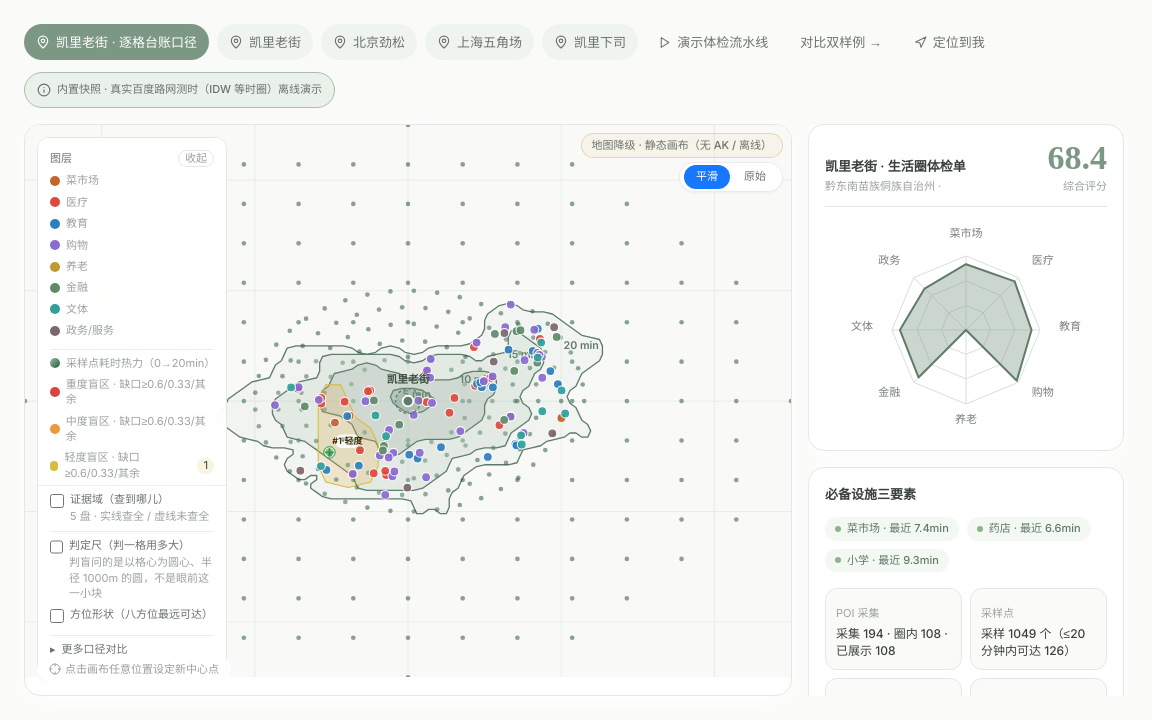
P0/P1 落地状态钉（S1、S3 均已转绿） › TC-05：折叠报出自身状态，且只收色块、不销毁判读勾选
The width and height of the screenshot is (1152, 720).
expect the text "凯里老街 · 生活圈体检单" is shown: met, box [825,156,966,177]
expect the text "采样点耗时热力（0→20min）" is shown: met, box [50,348,214,371]
Click the button "收起": (196, 159) [178,150,214,167]
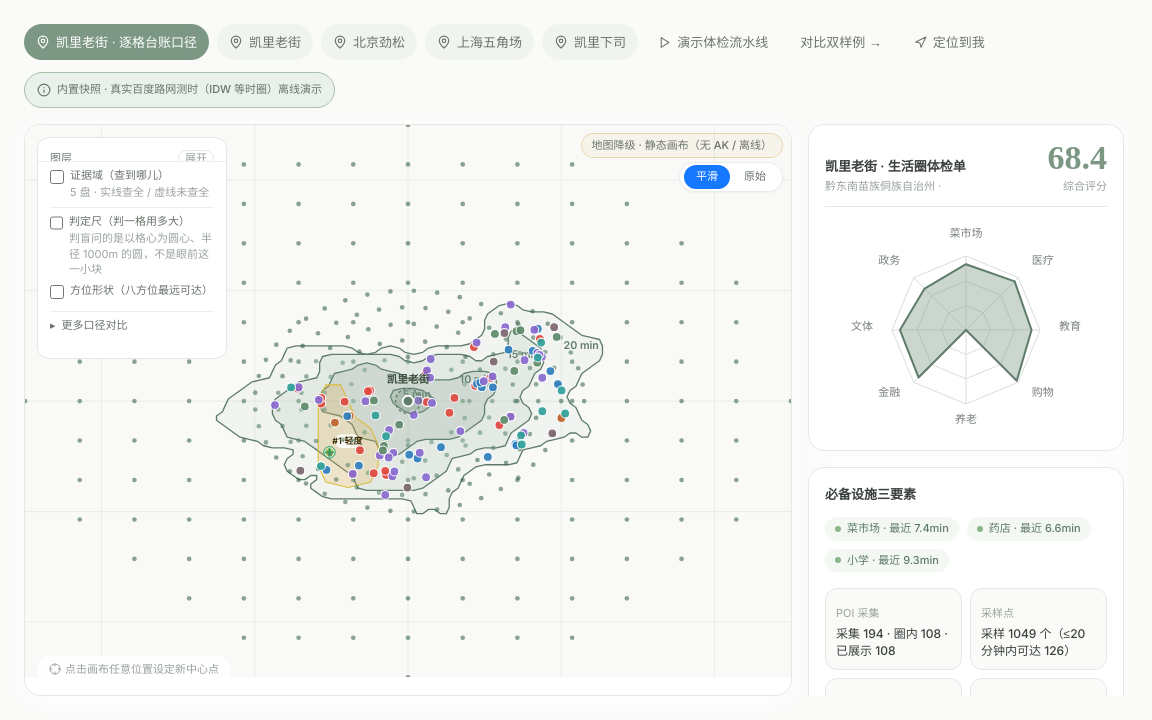
expect the button "展开" is collapsed: met, box [178,150,214,167]
expect the text "采样点耗时热力（0→20min）" is gone: met
Click the checkbox labelled "判定尺": (56, 223) [50,216,63,230]
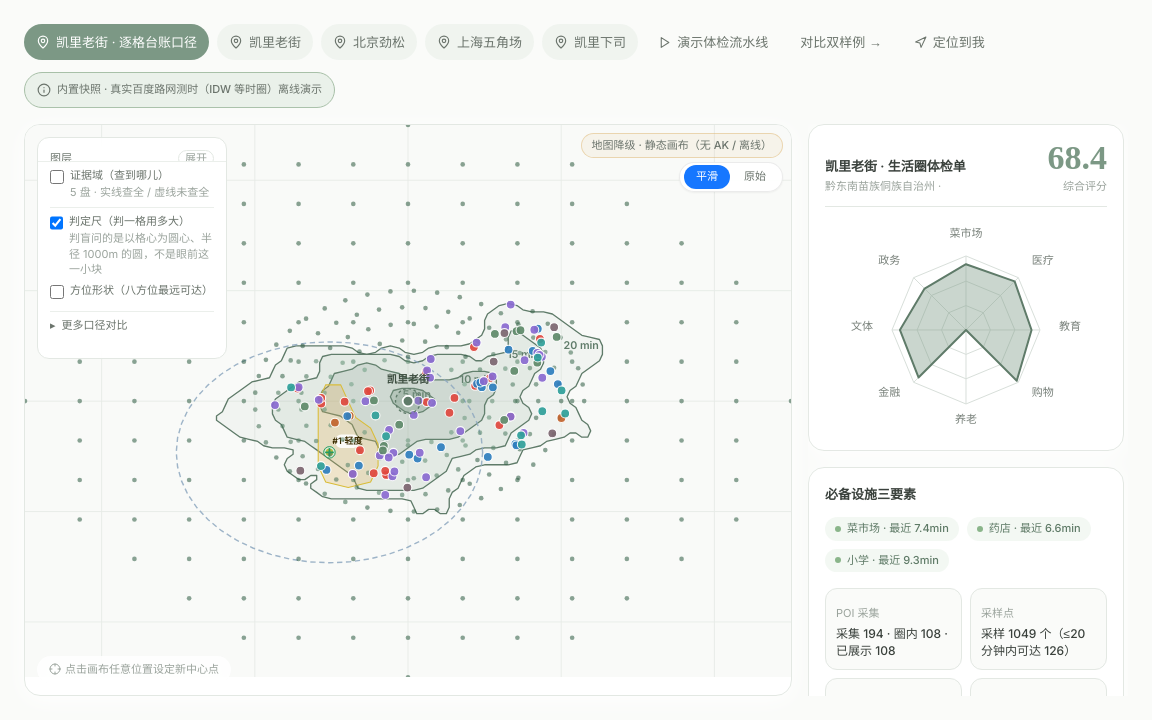
expect the checkbox labelled "判定尺" is checked: met, box [50,216,63,230]
Note: 再点同一个按钮（折叠态下它的名字是"展开"）回到展开态
Click the button "展开": (196, 159) [178,150,214,167]
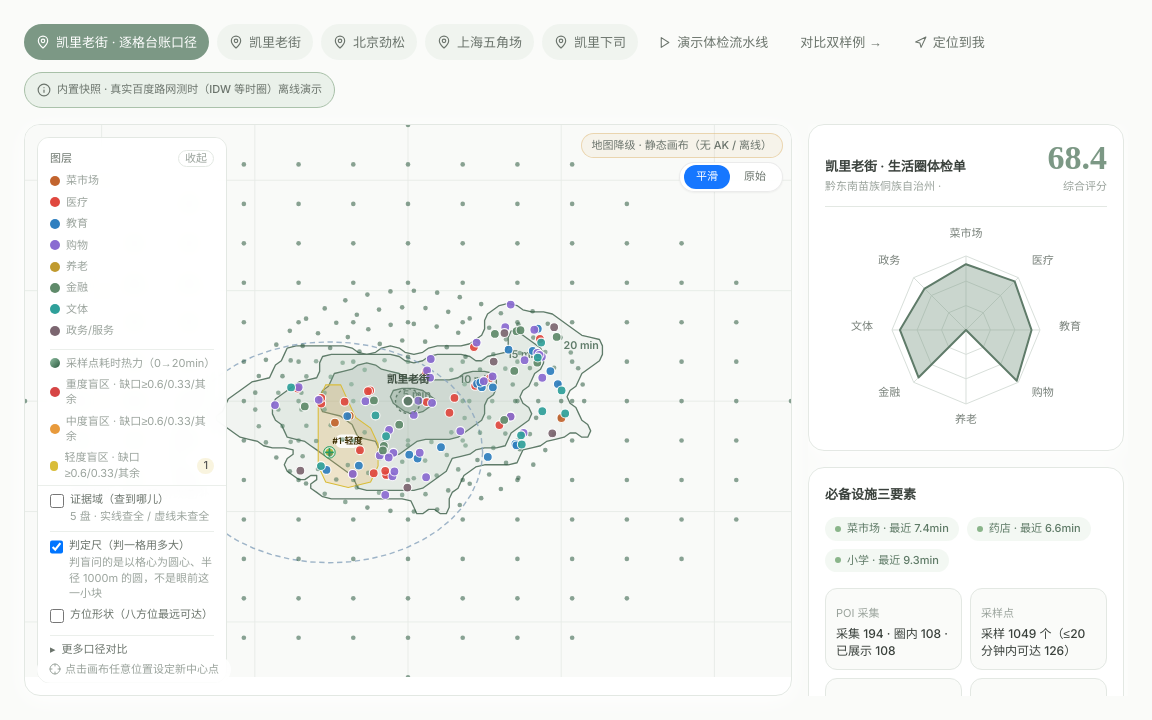
expect the checkbox labelled "判定尺" is checked: met, box [50,540,63,554]
expect the text "采样点耗时热力（0→20min）" is shown: met, box [50,348,214,371]
